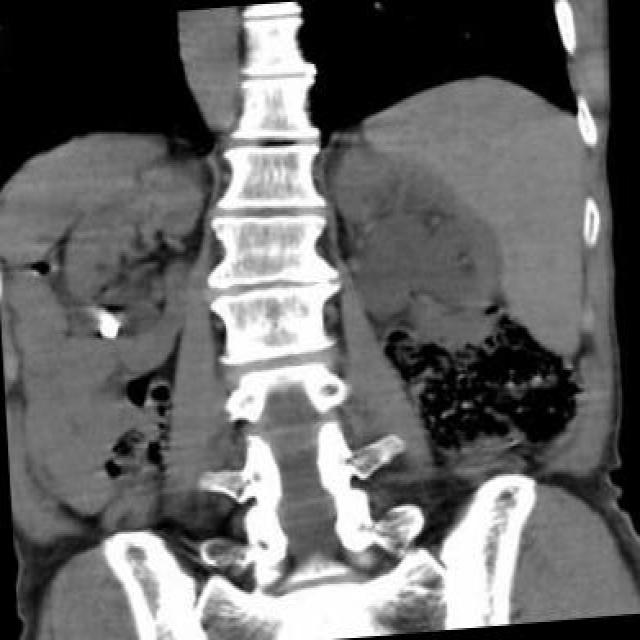Tas_Var: (92, 308, 121, 346)
